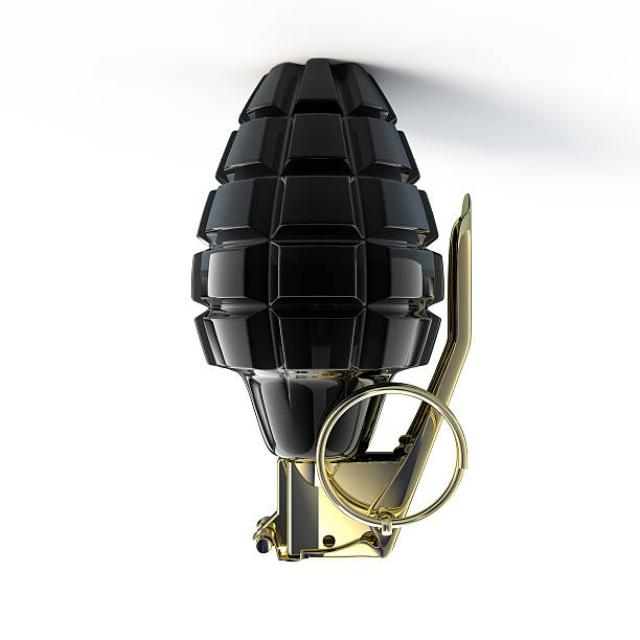grenade: (185, 48, 498, 579)
